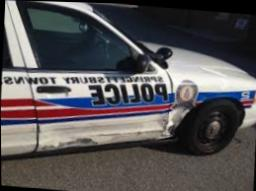Bumper: (159, 107, 194, 141)
Door: (36, 129, 116, 148)
